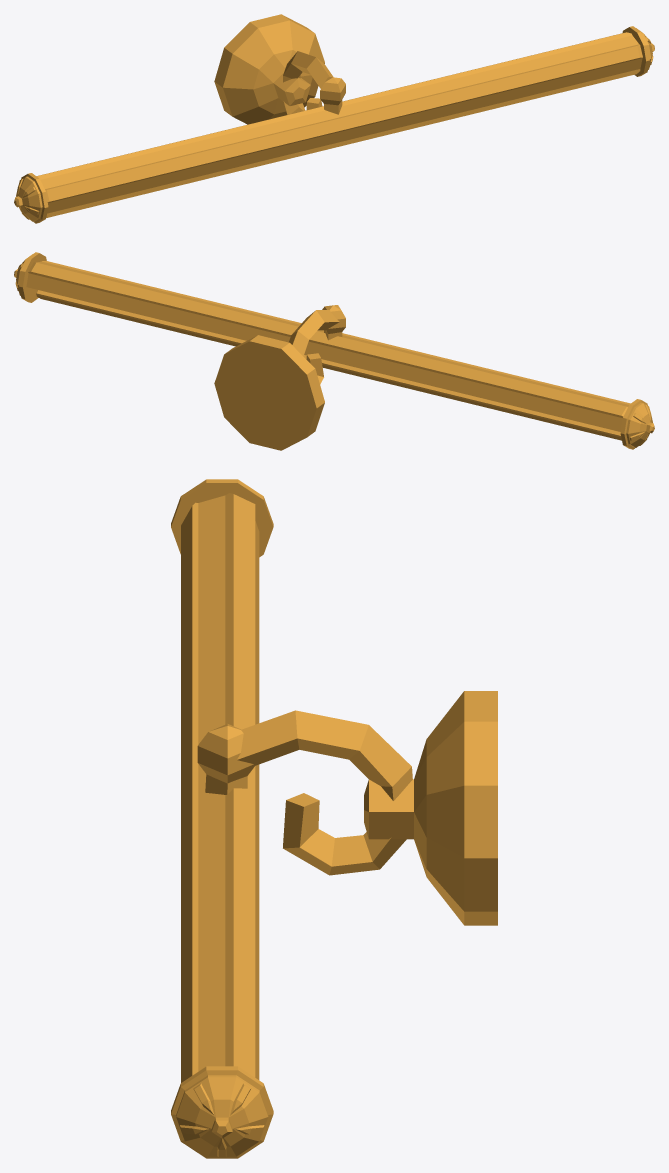
File: SM_Light_Wall_Painting_Short.fbx
The picture shows the model from 3 angles, top to bottom: view 1: azimuth 30°, elevation 25°; view 2: azimuth 150°, elevation 25°; view 3: azimuth 270°, elevation 25°; orthographic projection. The views are drawn at different scales.
Parts seen in each view (by area): view 1: light-wall-painting-short; view 2: light-wall-painting-short; view 3: light-wall-painting-short.
Part boxes in pixels (box(x1,y1,x2,y2)): light-wall-painting-short: box(14, 14, 654, 223); light-wall-painting-short: box(14, 252, 654, 450); light-wall-painting-short: box(171, 479, 497, 1158).
Size of the model in its own units: 1.29 by 0.1968 by 0.2862.
